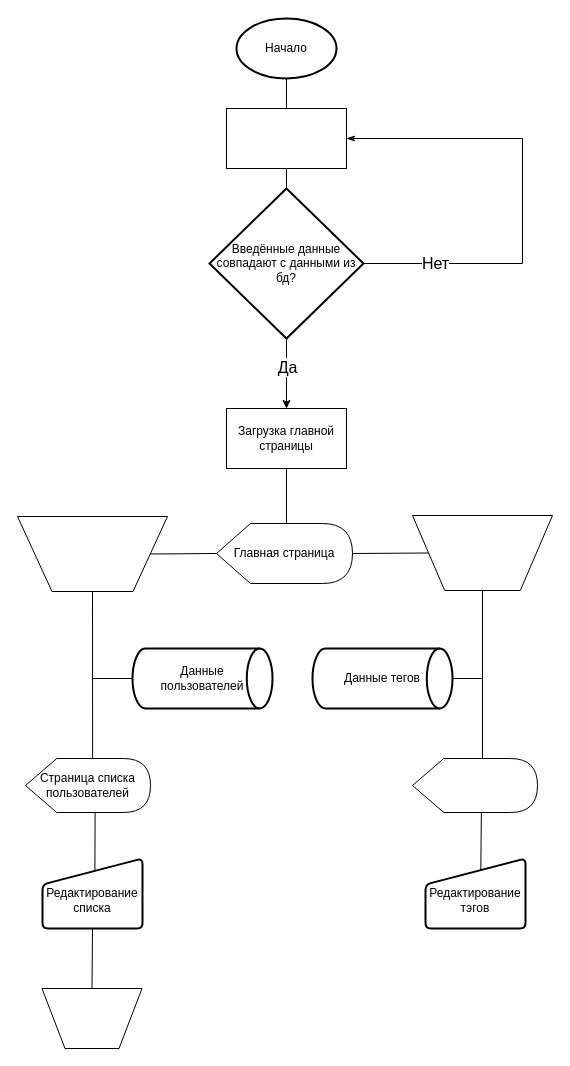
Some shapes in this 570 by 1066 pixel diagram are drawn without their labels. Each missing label, with the centre of its shape:
Загрузка стартовой страницы: point (286, 138)
Нажать на кнопку страницы списка пользователей: point (92, 554)
Нажать на кнопку страницы тэгов: point (482, 552)
Отметить посещение: point (91, 1018)
Страница списка тэгов: point (475, 785)
